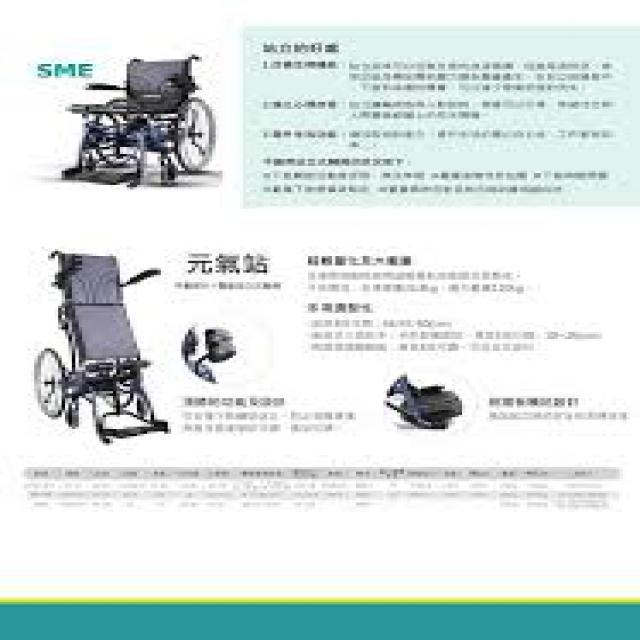wheelchair: (54, 45, 222, 197)
